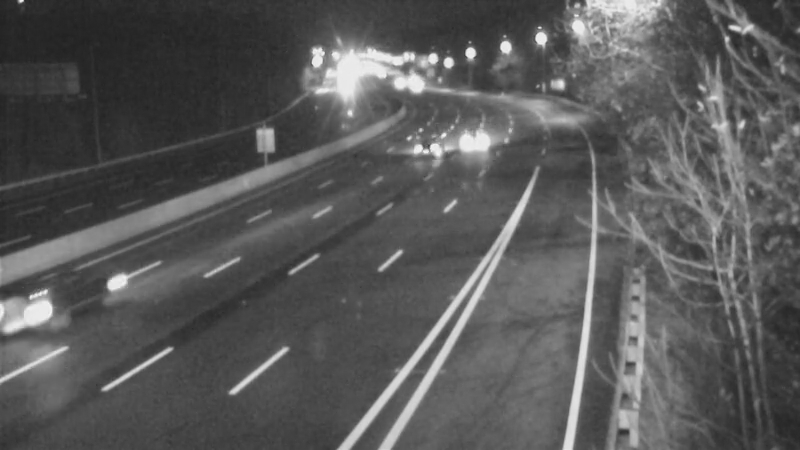vehicle: (39, 257, 119, 337), (447, 114, 497, 164), (408, 118, 458, 168)
